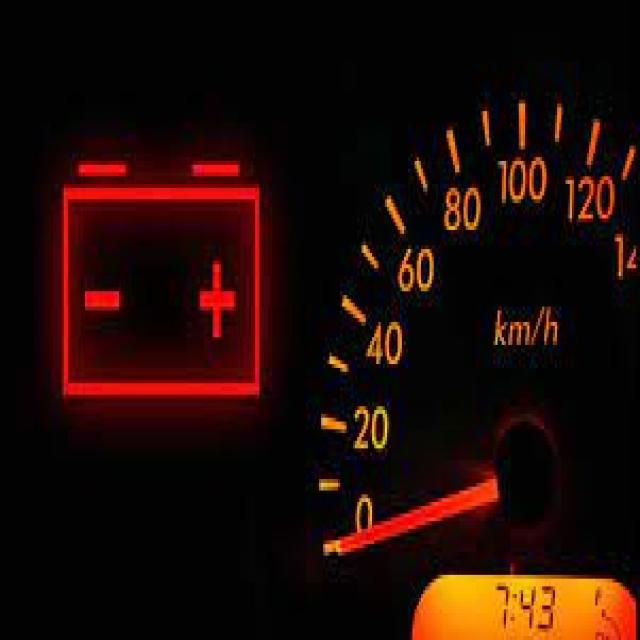kontrolka: (35, 137, 288, 424)
